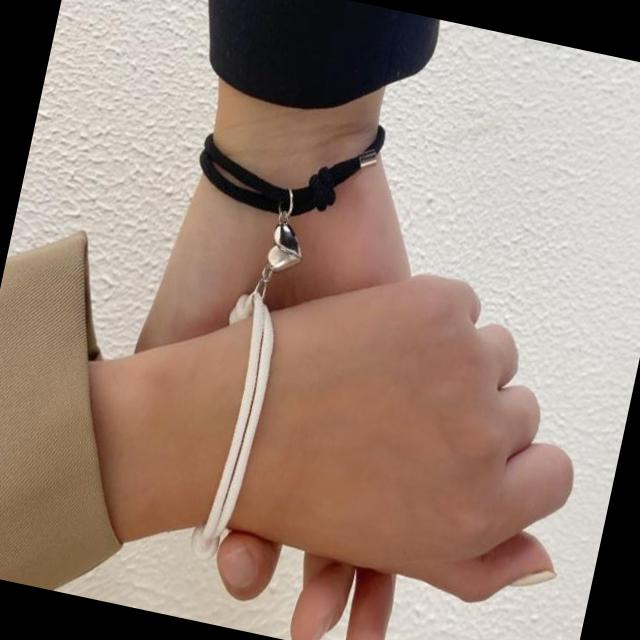Nail: (216, 543, 261, 591), (509, 568, 555, 584)
